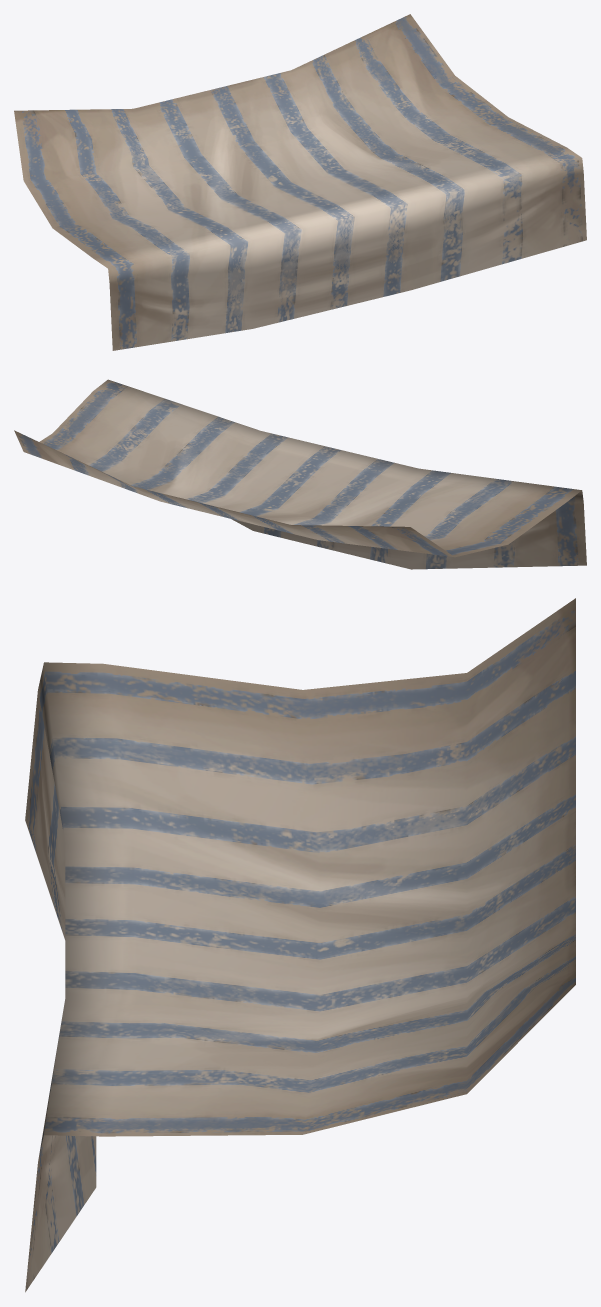
The model's file is awning_01.fbx.
3 views of the same model, one above another, from view 1: azimuth 30°, elevation 25°; view 2: azimuth 150°, elevation 25°; view 3: azimuth 270°, elevation 25° (orthographic). The views are drawn at different scales.
Visible parts, largest first — view 1: awning_01; view 2: awning_01; view 3: awning_01.
Boxes of the visible parts, x1,y1,x2,y2 form: awning_01: (14,14,586,350); awning_01: (14,379,586,569); awning_01: (25,598,575,1292).
Bounding box in the file's own units: 261 × 83.95 × 131.
